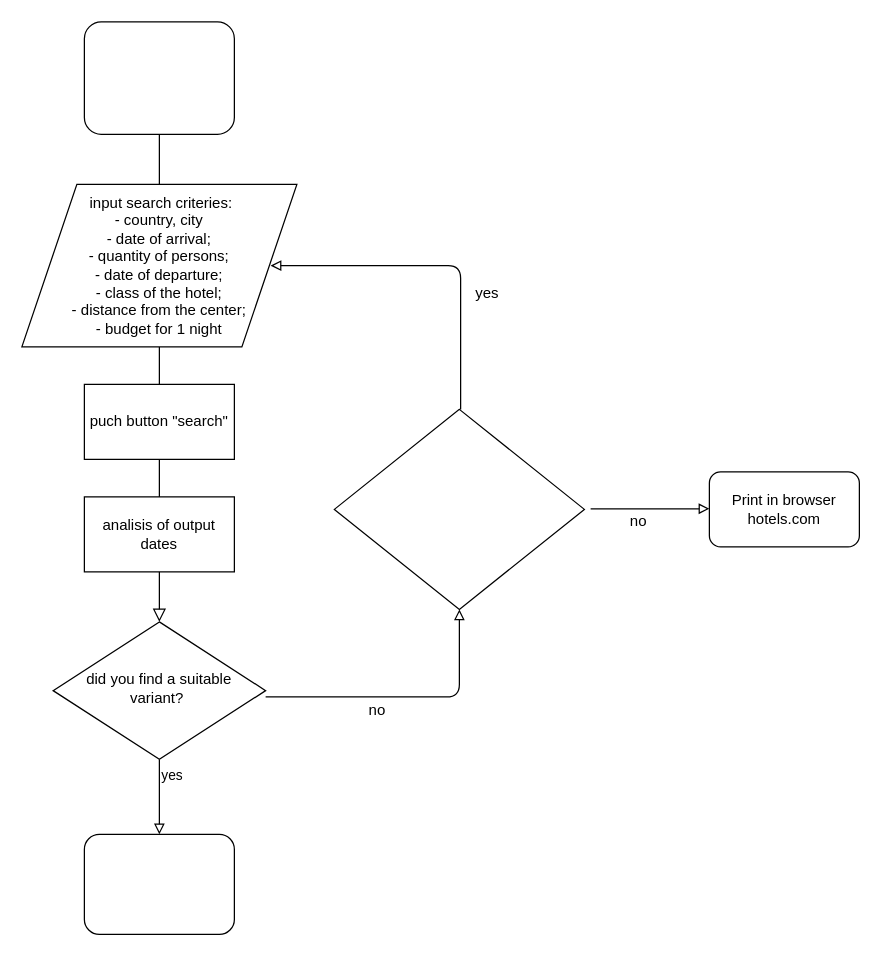
Some shapes in this 881 by 956 pixel diagram are drawn without their labels. The box of each missing label's shape, as (x1, y1, x2, y2) in pixels:
Begin Print in browser booking.com: (83, 21, 234, 134)
do you want to change search criteries?: (333, 408, 584, 609)
push buttom "reservation" End: (83, 833, 234, 934)
